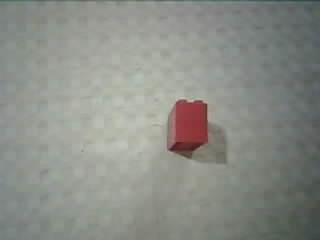lego: (166, 98, 209, 152)
